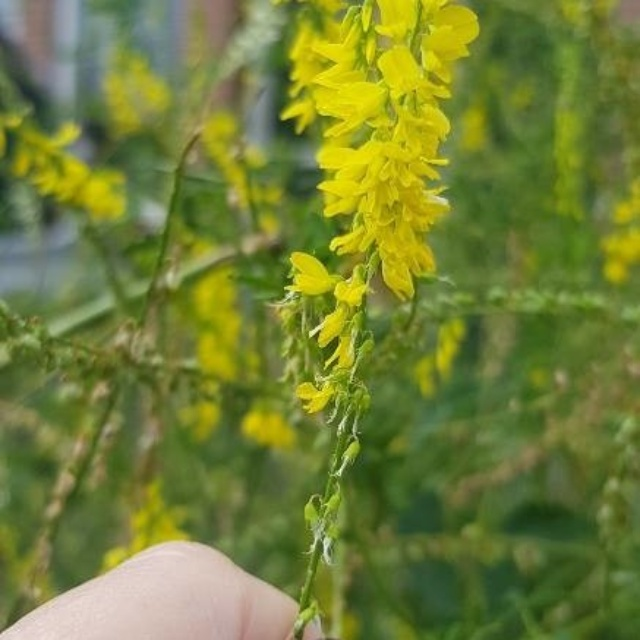obstacle: (242, 22, 463, 605)
